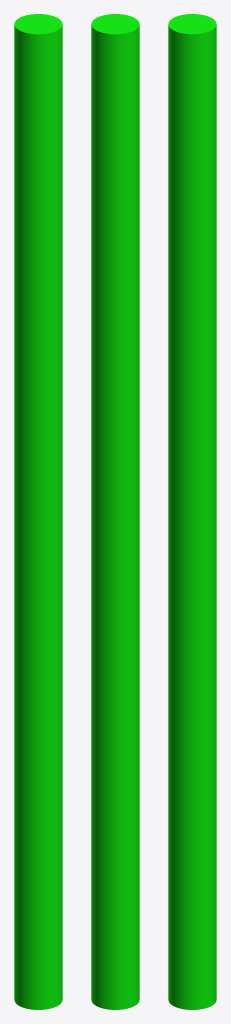
File: Laser.obj
The picture shows the model from 3 angles, left to right: view 1: azimuth 30°, elevation 25°; view 2: azimuth 150°, elevation 25°; view 3: azimuth 330°, elevation 25°; orthographic projection.
Parts seen in each view (by area): view 1: Cylinder001; view 2: Cylinder001; view 3: Cylinder001.
Boxes of the visible parts, x1=… form: Cylinder001: x1=14, y1=14, x2=62, y2=1009; Cylinder001: x1=91, y1=14, x2=139, y2=1009; Cylinder001: x1=168, y1=14, x2=216, y2=1009.
Bounding box in the file's own units: 2.2 × 49.24 × 2.2.
